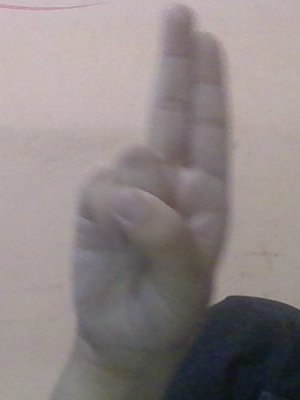U: (69, 1, 233, 376)
